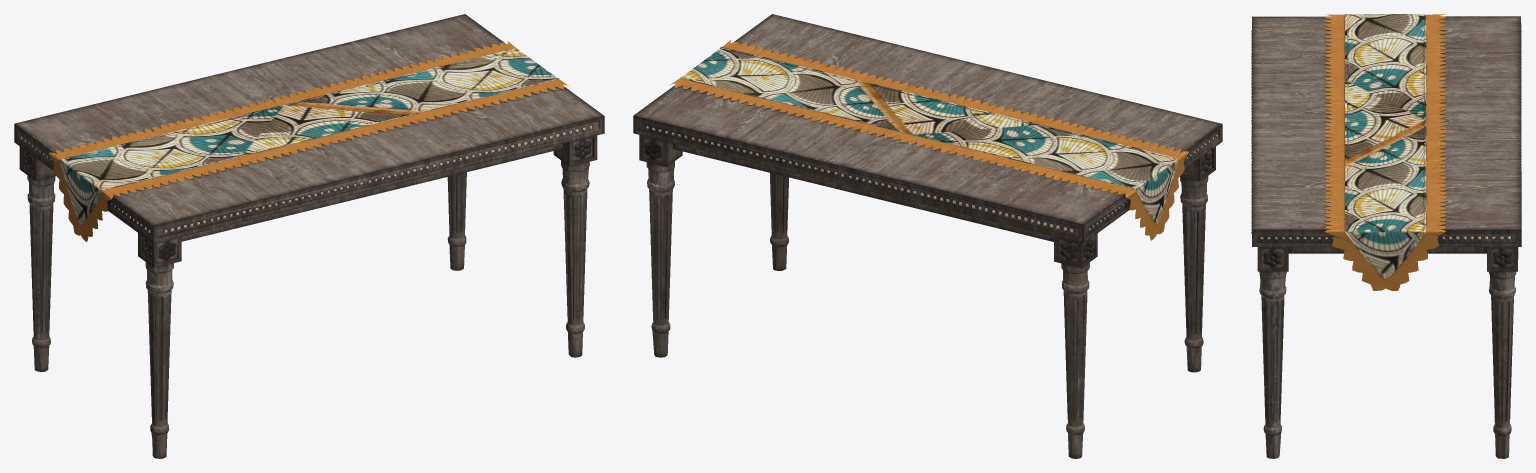
File: f9ed40f0-ee1a-4f71-a41b-ad79e76cdff0.gltf
The picture shows the model from 3 angles, left to right: view 1: azimuth 30°, elevation 25°; view 2: azimuth 150°, elevation 25°; view 3: azimuth 270°, elevation 25°; orthographic projection. The views are drawn at different scales.
Parts seen in each view (by area): view 1: Node; view 2: Node; view 3: Node.
Part boxes in pixels (x1,y1,x2,y2): Node: [14, 14, 604, 458]; Node: [633, 14, 1222, 458]; Node: [1251, 14, 1521, 458].
Bounding box in the file's own units: 1.53 × 0.7775 × 0.8055.
Materials: 1 (1 with a texture image).
